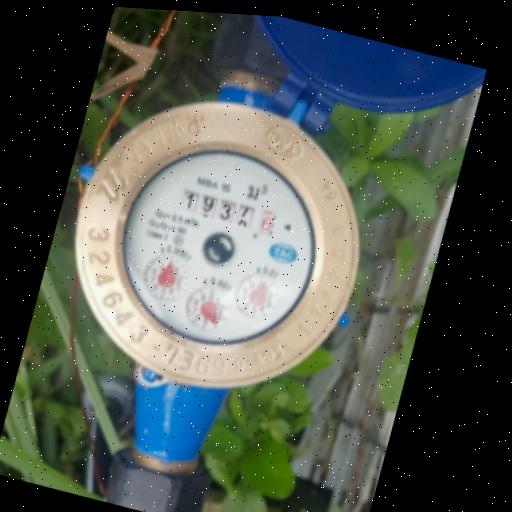1: (180, 191, 200, 214)
3: (218, 200, 236, 224)
6: (258, 210, 277, 236)
7: (236, 205, 256, 229)
9: (198, 195, 218, 219)
border_water_meter_number: (176, 187, 280, 237)
